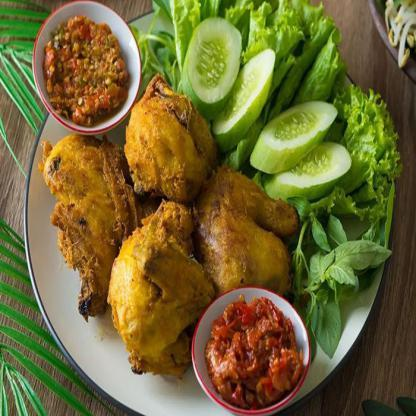ayam_goreng: (112, 202, 213, 381), (43, 133, 134, 315), (200, 174, 299, 297), (123, 76, 215, 201)
